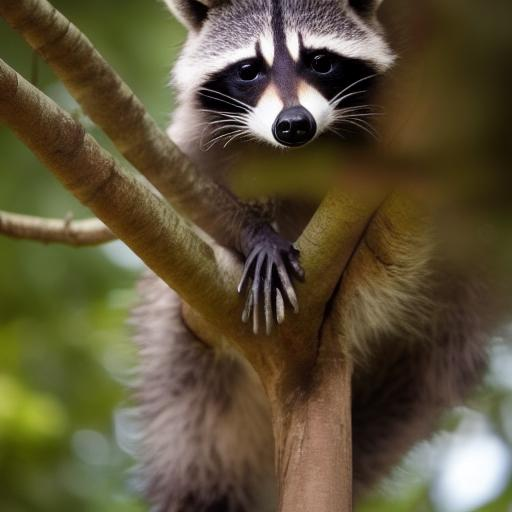raccoon: (112, 0, 402, 512)
